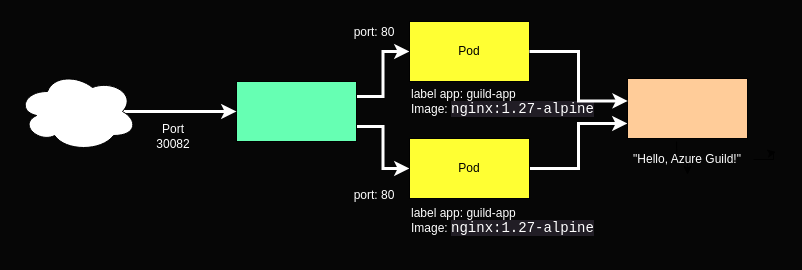
Some shapes in this 802 by 270 pixel diagram are drawn without their labels. The shapes that lost their labels are listed below. From the top down, each one's centre as x and y in pixels, then its label:
(296,111): service
(687,108): ConfigMap
